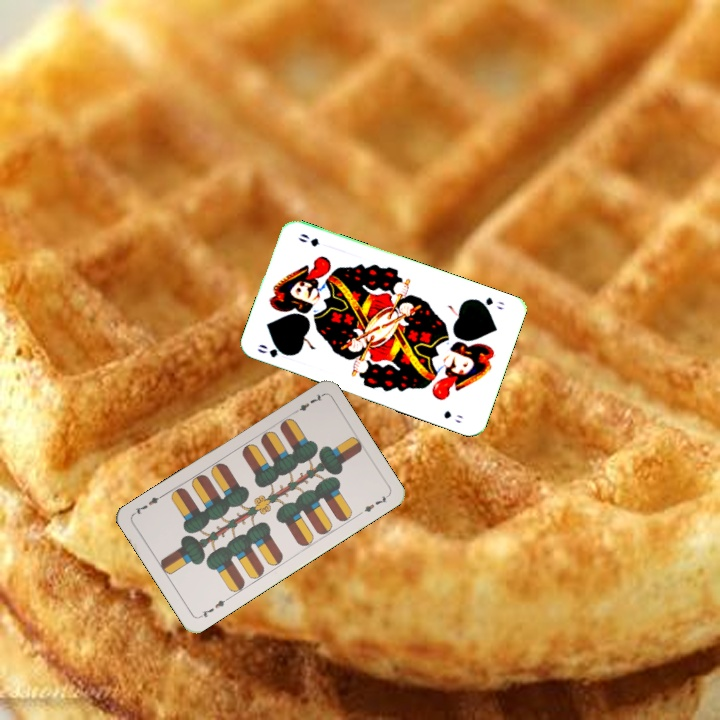E7: (289, 390, 325, 417), (195, 594, 232, 620)
GO: (253, 340, 294, 360), (471, 293, 507, 312)
